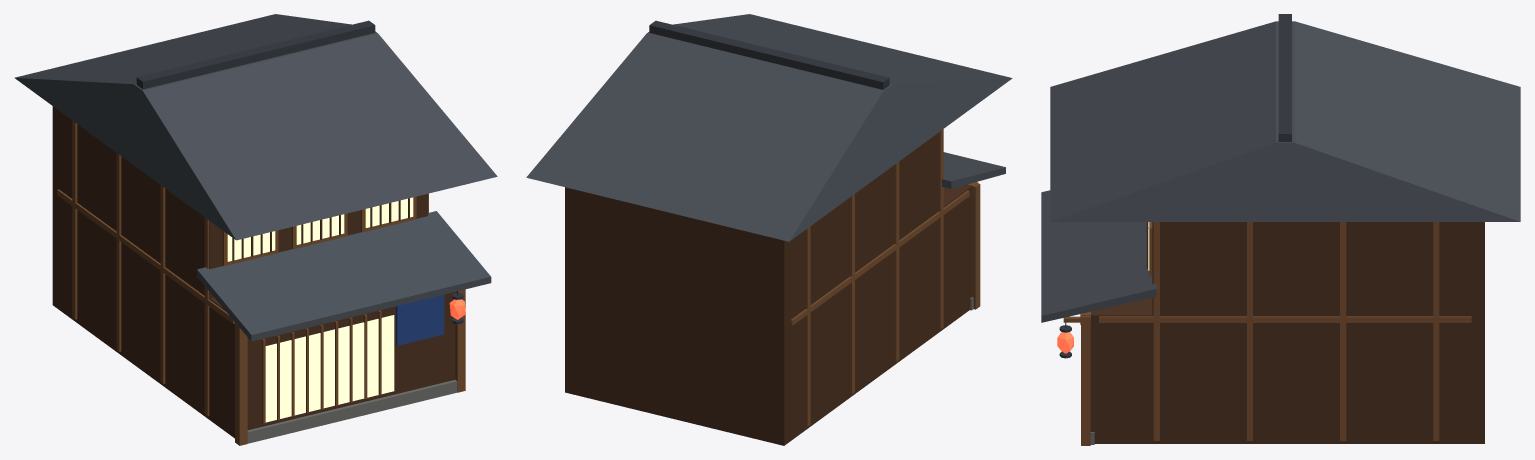
File: machiya_1.glb
The picture shows the model from 3 angles, left to right: view 1: azimuth 30°, elevation 25°; view 2: azimuth 150°, elevation 25°; view 3: azimuth 270°, elevation 25°; orthographic projection. The views are drawn at different scales.
Parts seen in each view (by area): view 1: machiya_1; view 2: machiya_1; view 3: machiya_1.
Boxes of the visible parts, left/top/right/bottom form: machiya_1: left=14, top=14, right=497, bottom=445; machiya_1: left=526, top=14, right=1012, bottom=445; machiya_1: left=1041, top=14, right=1520, bottom=445.
Bounding box in the file's own units: 7.2 × 7.8 × 10.8.
